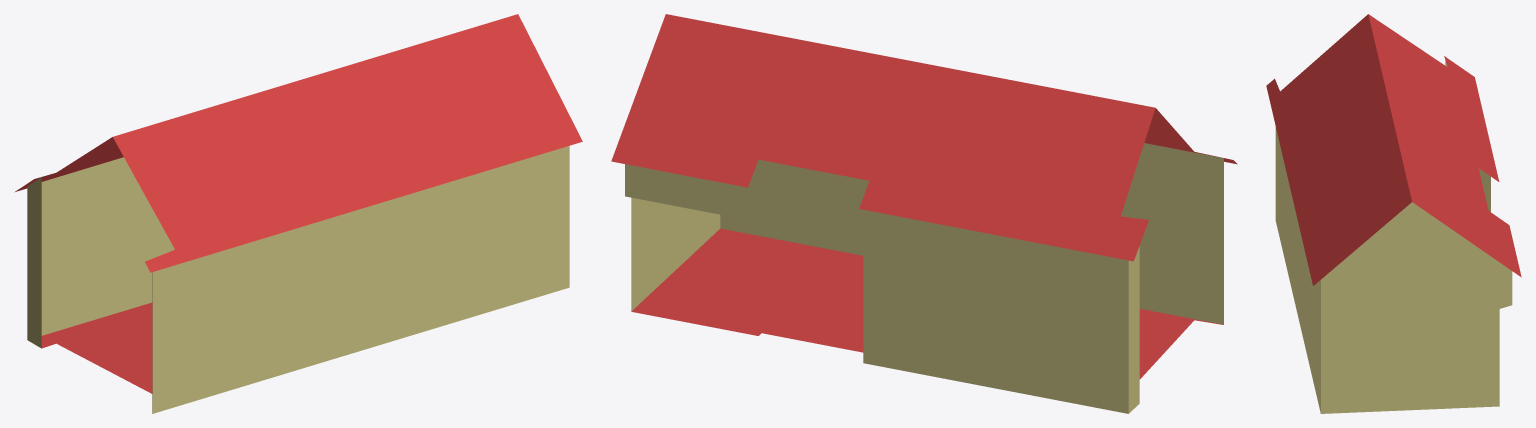
3 views of the same model, side by side, from view 1: azimuth 30°, elevation 25°; view 2: azimuth 150°, elevation 25°; view 3: azimuth 270°, elevation 25° (orthographic). The views are drawn at different scales.
Bounding box in the file's own units: 28.77 × 14.84 × 13.58.
